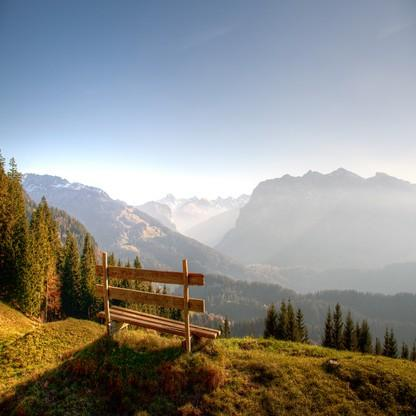obstacle: (86, 261, 214, 373)
